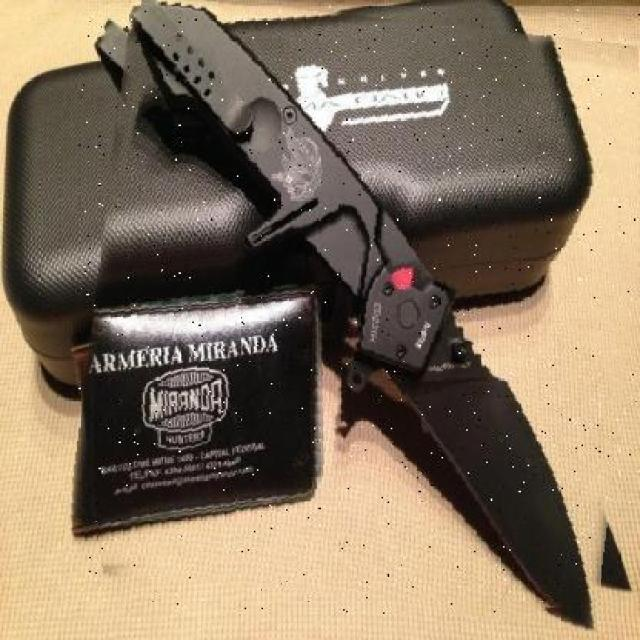knife: (78, 7, 640, 616)
